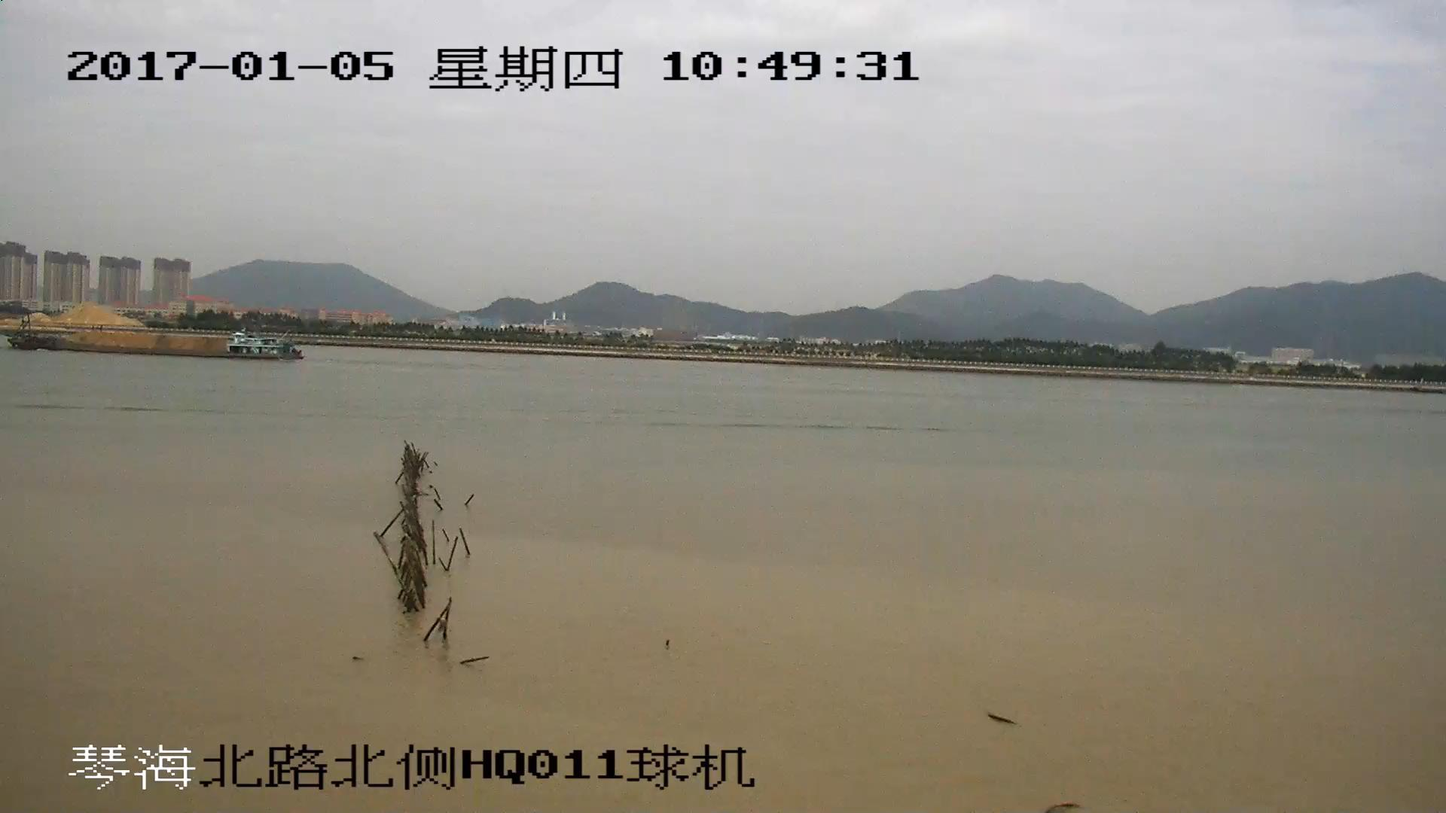ore carrier: (0, 313, 299, 361)
